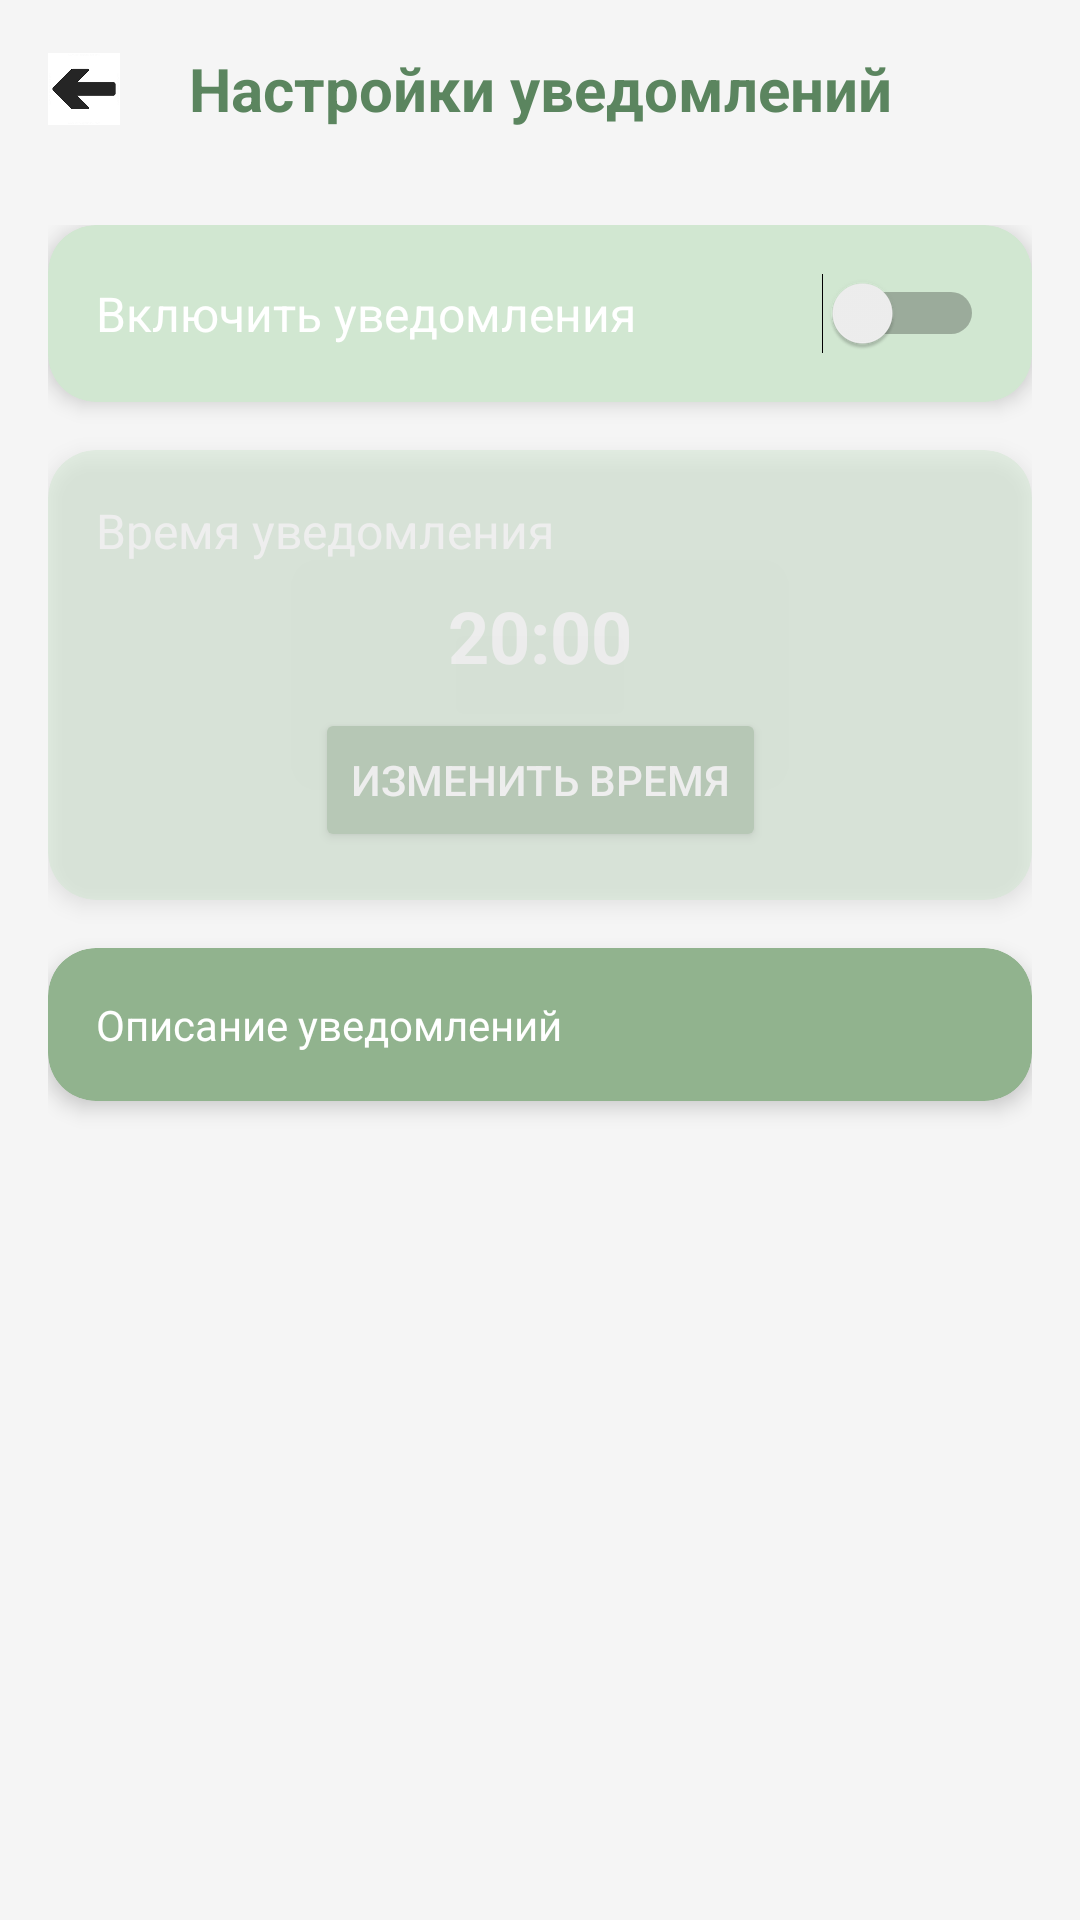

Point at icon controls on the screen. Image size 1080*1920, points as (x,y).
Назад: (84,89)
